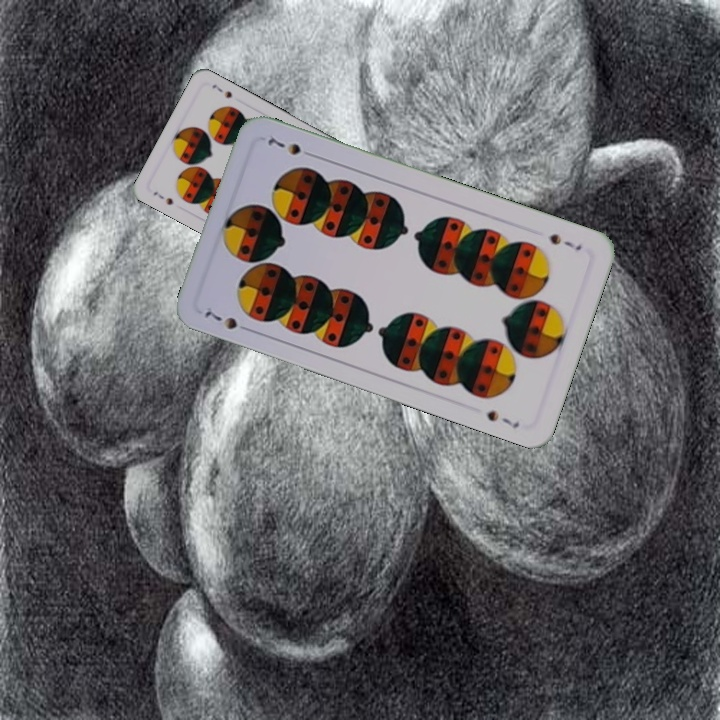S7: (200, 302, 255, 335), (546, 229, 584, 254), (149, 187, 176, 208)
